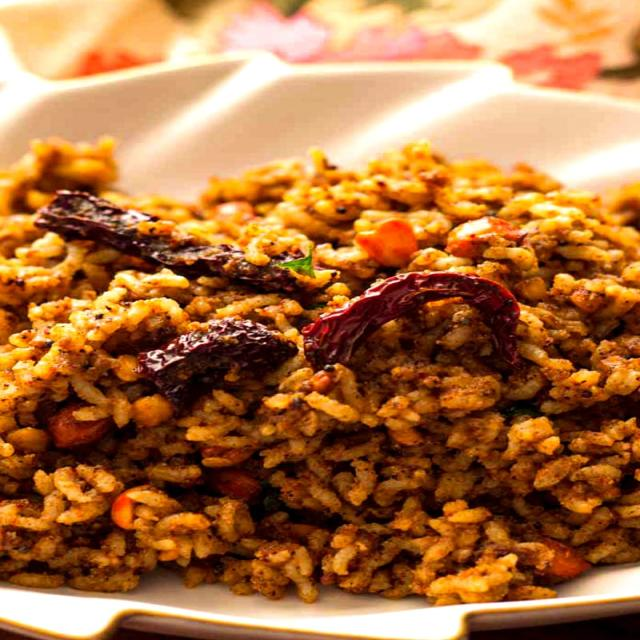puliyogare: (5, 114, 640, 613)
